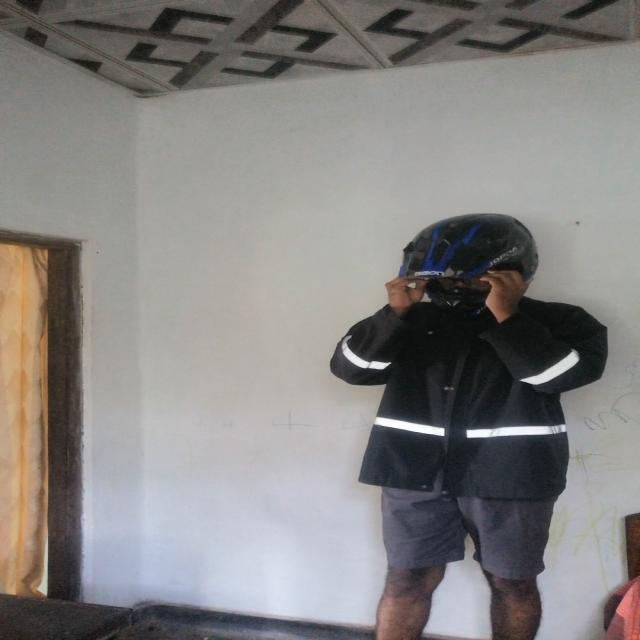Helmet_Wearer: (358, 211, 540, 326)
Jacket_Wearer: (319, 291, 622, 499)
Person: (342, 217, 608, 640)
